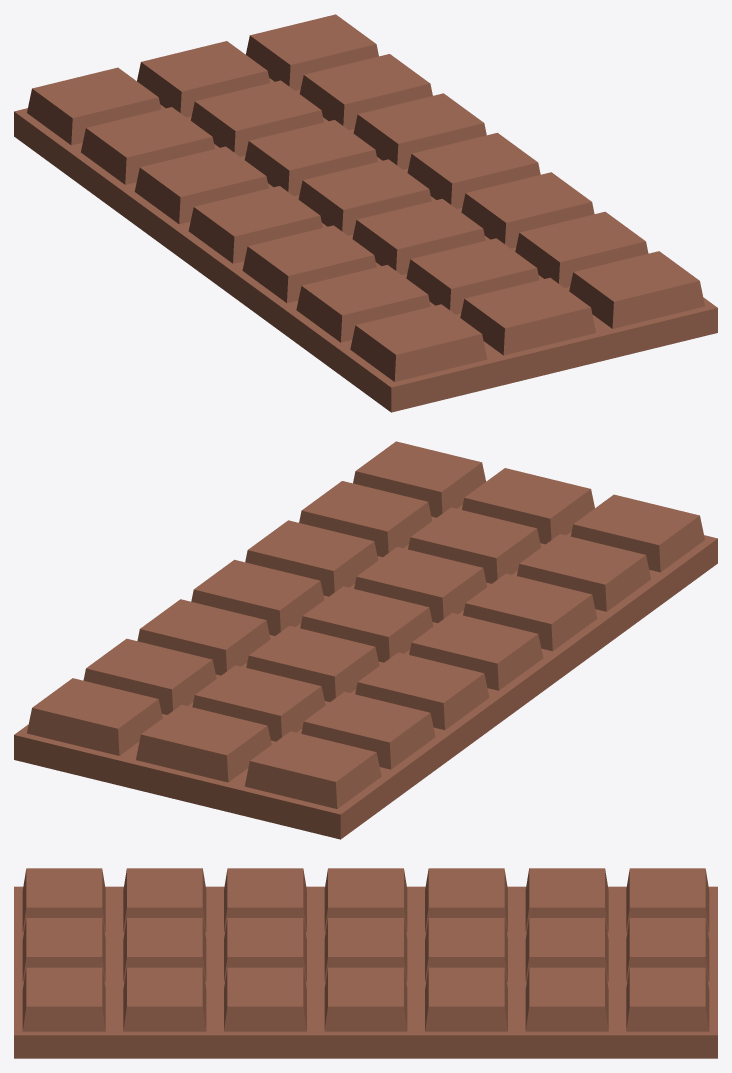
File: chocobar.fbx
3 views of the same model, one above another, from view 1: azimuth 30°, elevation 25°; view 2: azimuth 150°, elevation 25°; view 3: azimuth 270°, elevation 25° (orthographic). The views are drawn at different scales.
Visible parts, largest first — view 1: chocobar; view 2: chocobar; view 3: chocobar.
Boxes of the visible parts, box(x1,y1,x2,y2) form: chocobar: box(14, 14, 717, 412); chocobar: box(14, 441, 717, 839); chocobar: box(14, 868, 717, 1058).
Bounding box in the file's own units: 200 × 29.26 × 400.
1 material, 1 textured.
